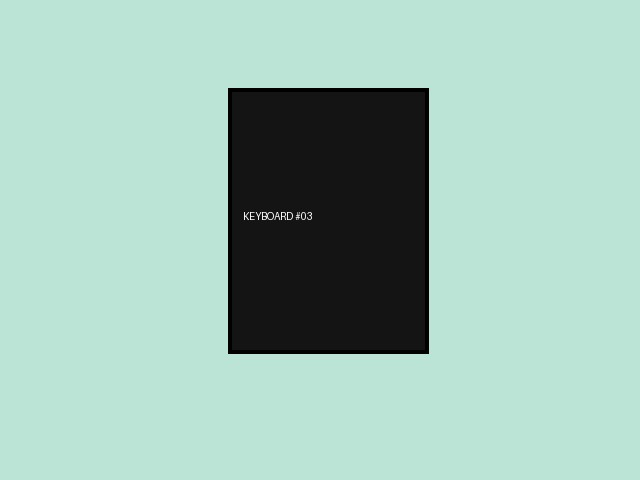keyboard: (228, 88, 428, 353)
